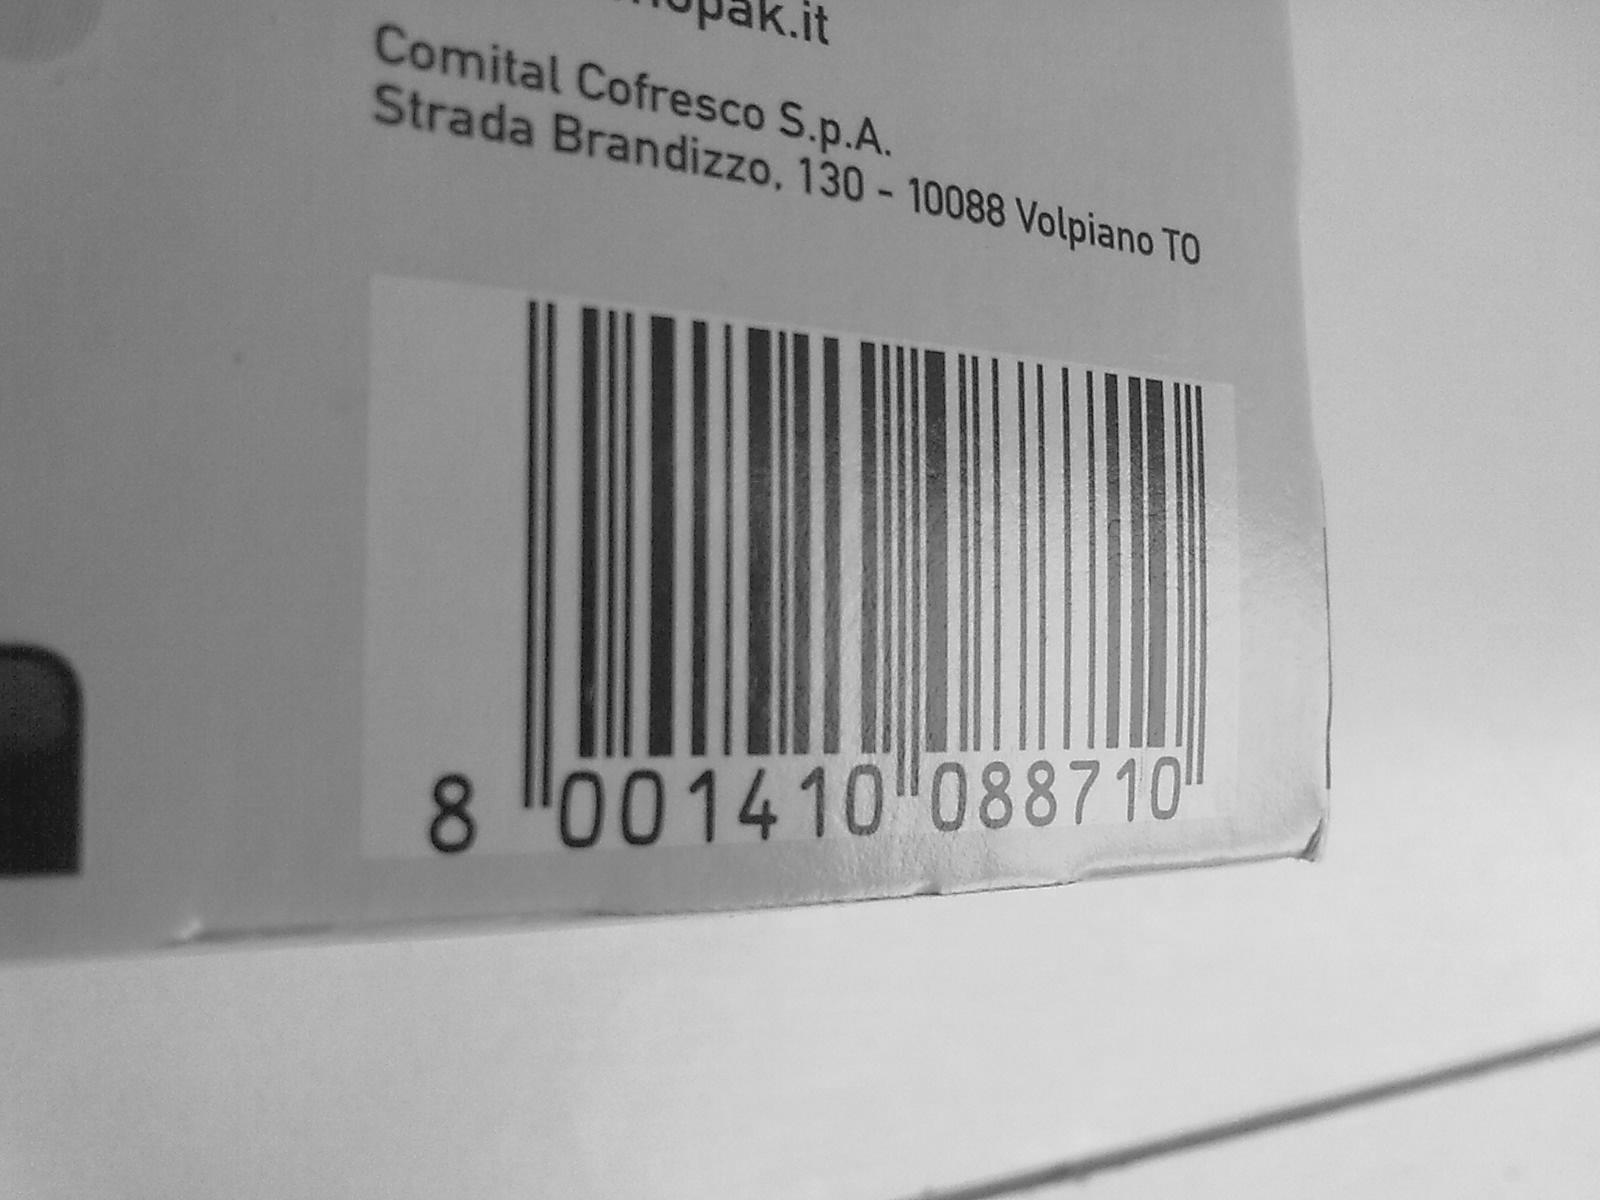Barcode: (459, 260, 1259, 829)
